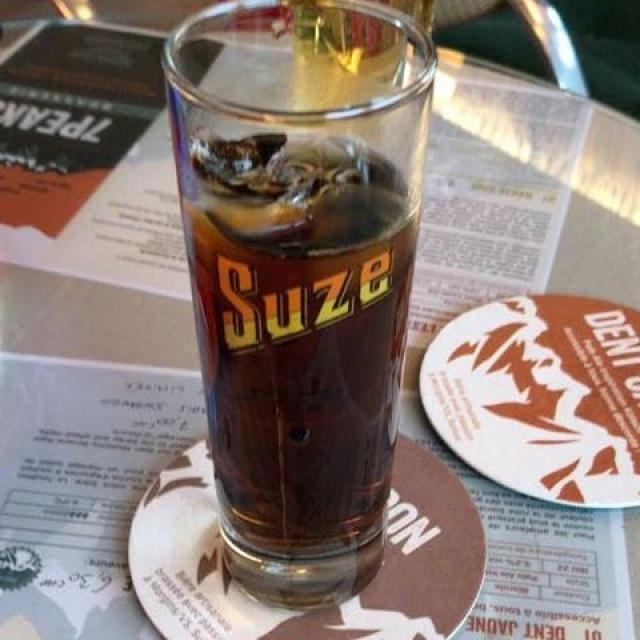coca-cola: (179, 54, 419, 554)
